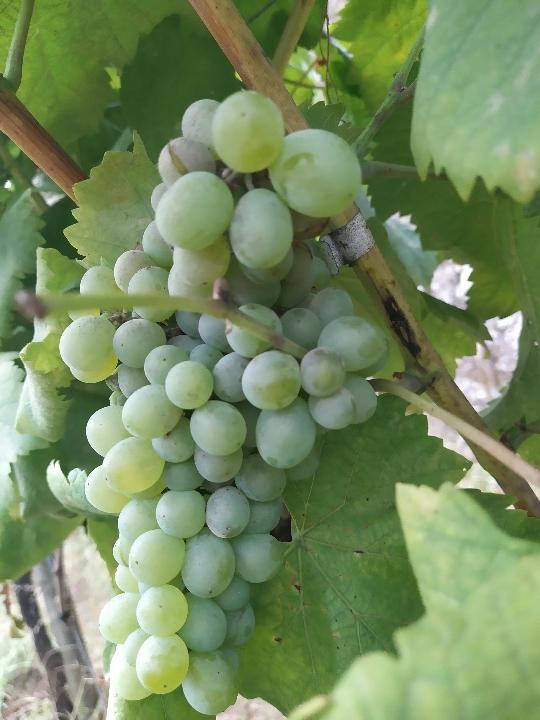grape: (54, 91, 385, 716)
